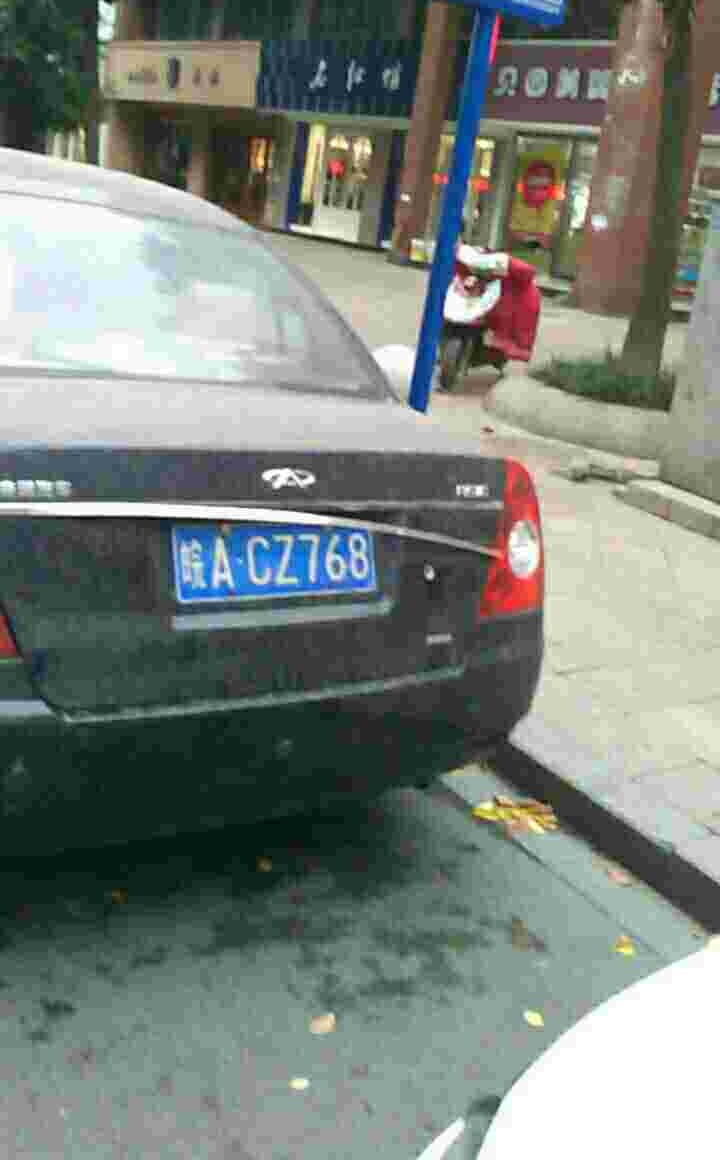license_plate: (178, 526, 382, 608)
